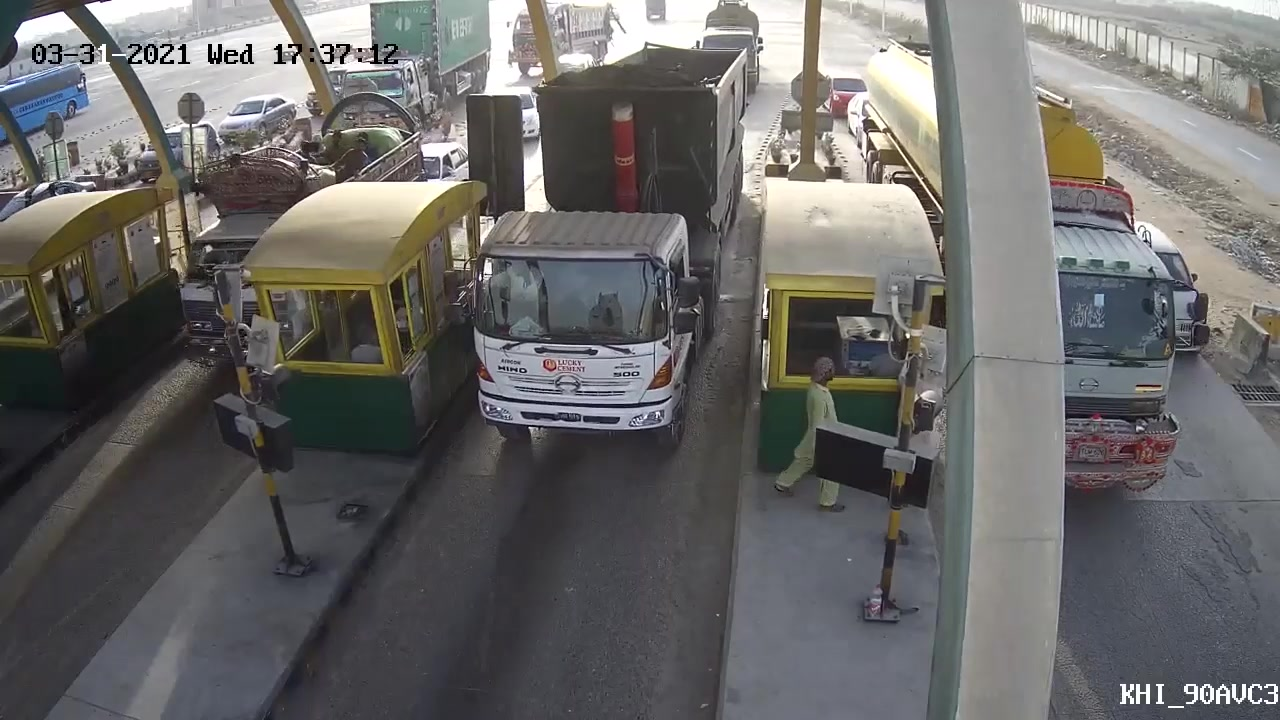F6: (464, 39, 754, 454)
